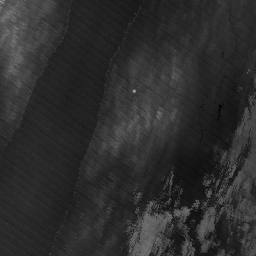Target: (130, 88, 138, 95)
